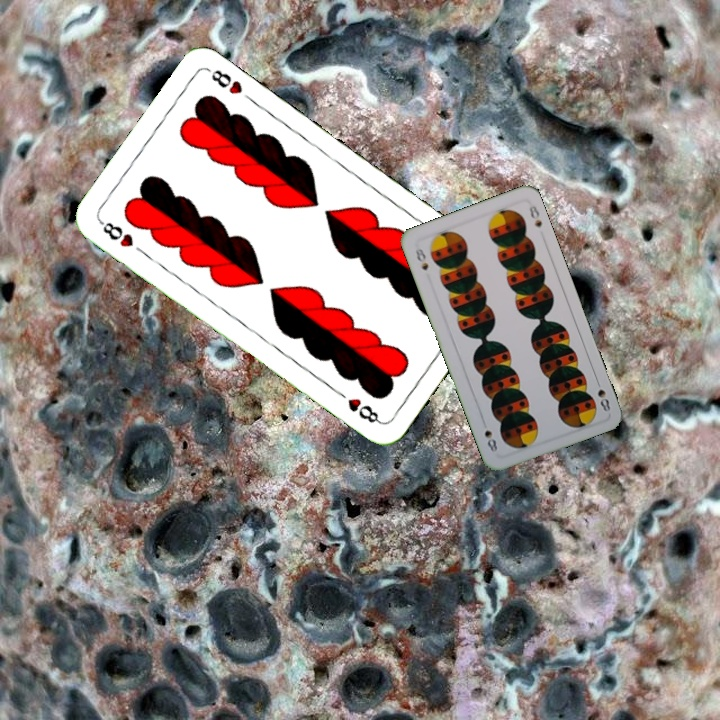H8: (96, 217, 136, 250)
S8: (592, 375, 613, 415), (411, 244, 431, 273)
